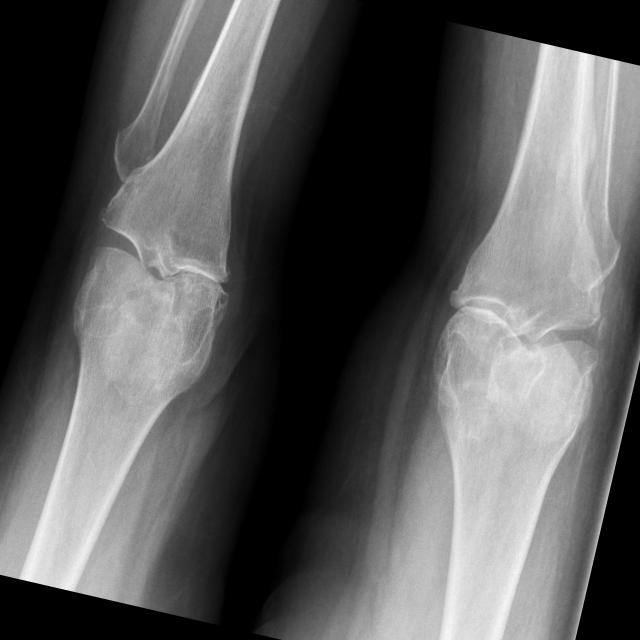Knee: (428, 233, 623, 426), (64, 178, 248, 374)
